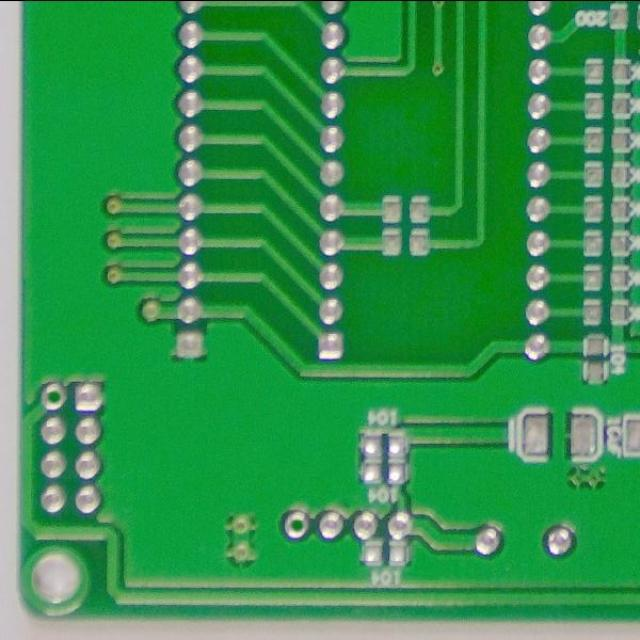Missing_Hole: (278, 510, 314, 543), (36, 382, 72, 413)
